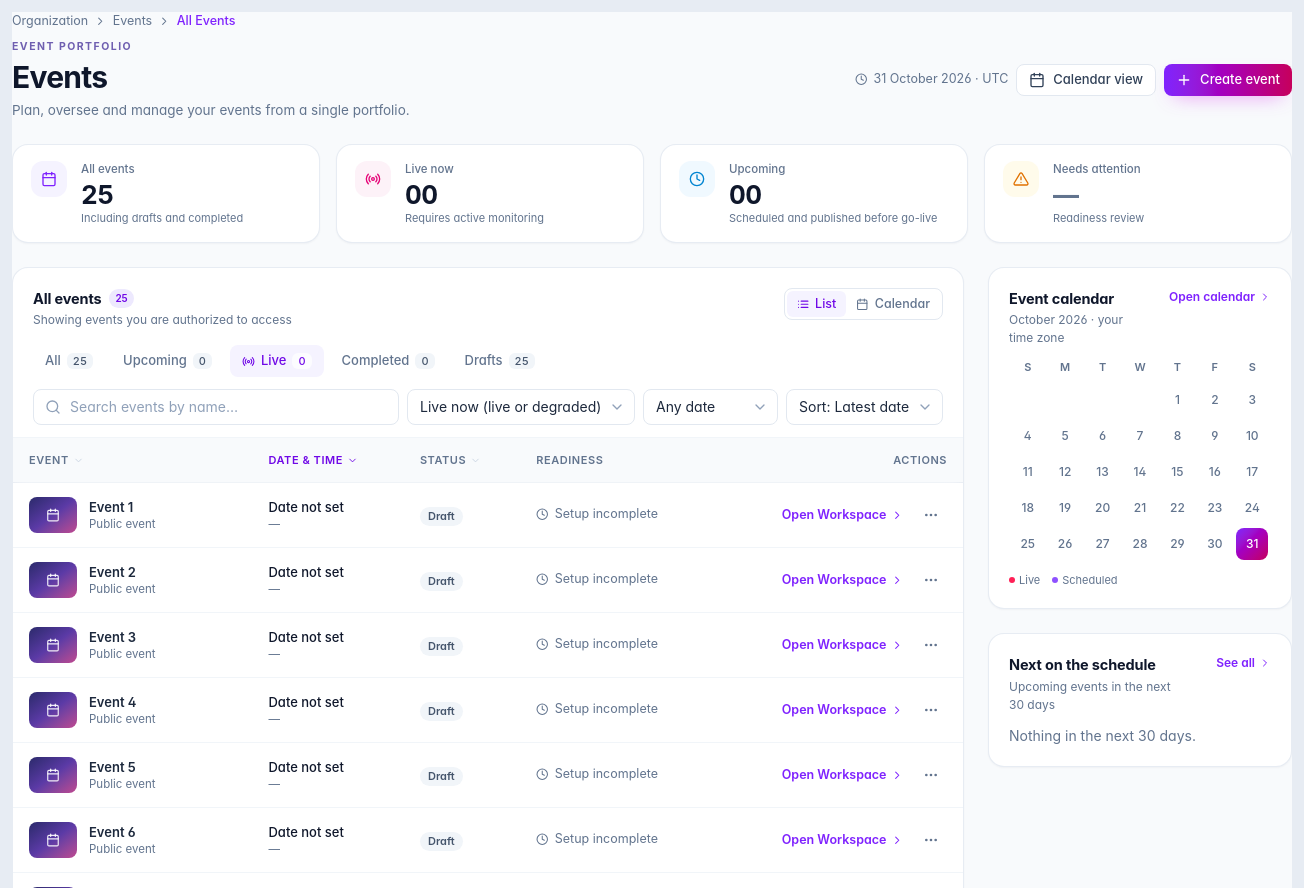
Scenario: Events, from a narrowed URL › from Live now clears the status filter
This screenshot has width=1304, height=888.
Expected: the dropdown named "Filter by status" shows "Live now (live or degraded)", [407, 389, 635, 425]
What coordinates should you click on to do the following:
click the link "Events"
I would click on:
 (132, 20)
Its box is [113, 13, 152, 28].
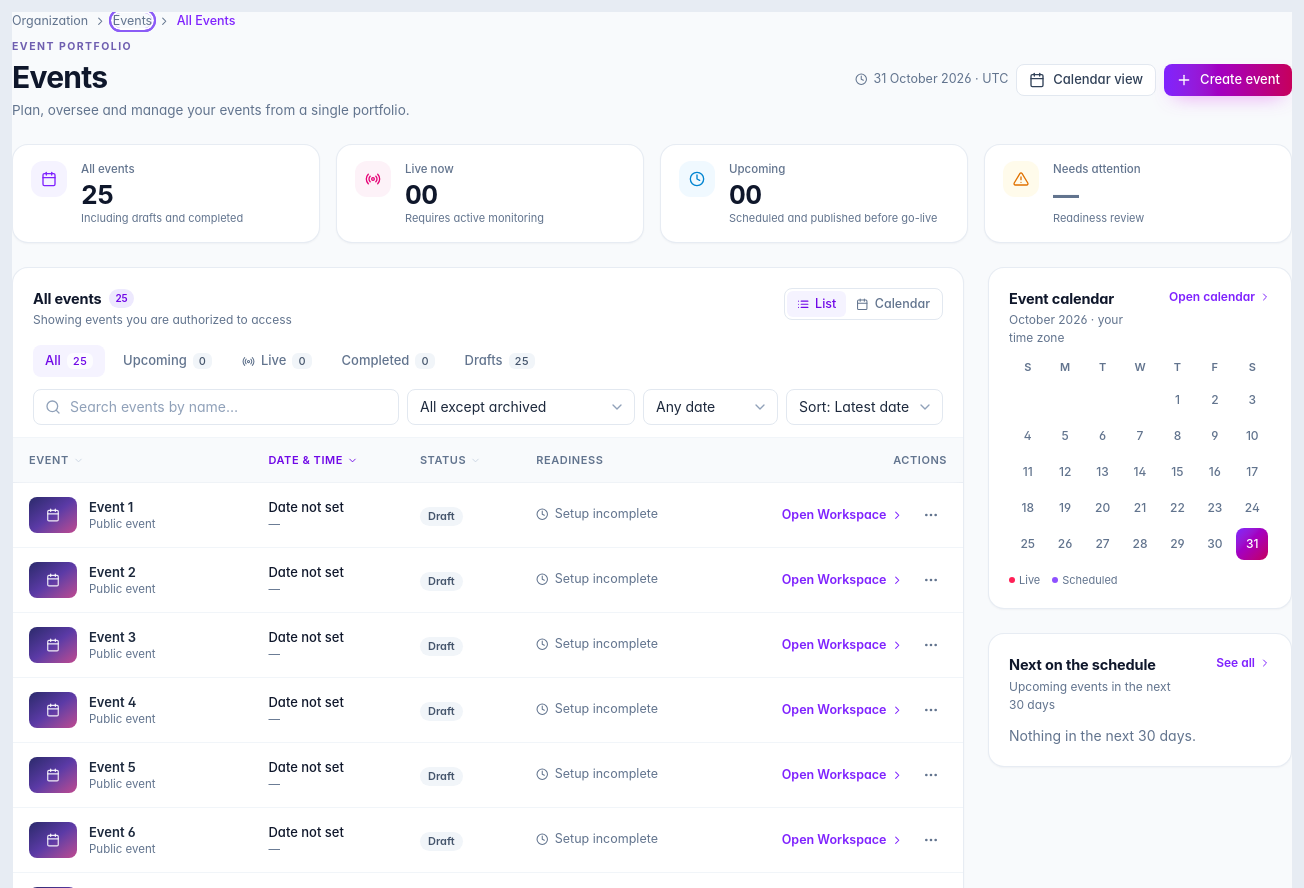
Expected: the dropdown named "Filter by status" shows "All except archived", [407, 389, 635, 425]
